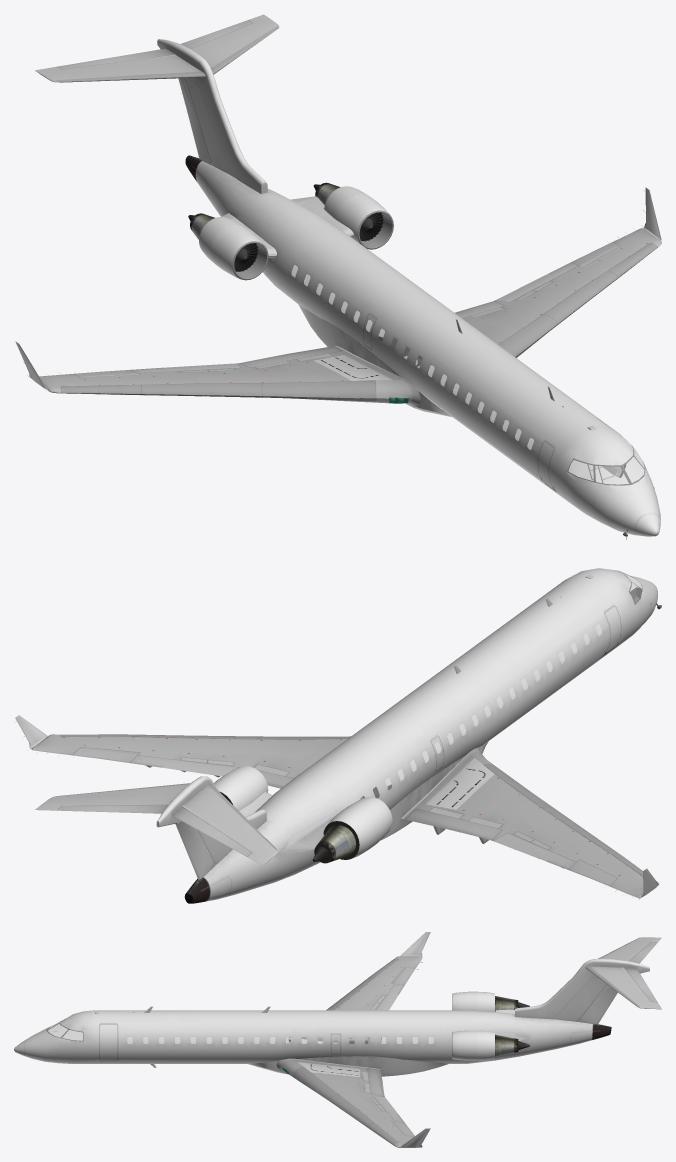
File: CRJ7.glb
3 renders of one model, top to bottom at view 1: azimuth 30°, elevation 25°; view 2: azimuth 150°, elevation 25°; view 3: azimuth 270°, elevation 25°, orthographic. The views are drawn at different scales.
Visible parts, largest first — view 1: Winglets, Windows, Nozzle; view 2: Winglets, Windows, Nozzle; view 3: Winglets, Windows, Nozzle.
Part boxes in pixels (box(x1,y1,x2,y2)): Winglets: box(15, 14, 661, 536); Windows: box(291, 265, 644, 484); Nozzle: box(188, 182, 393, 280); Winglets: box(15, 568, 659, 903); Windows: box(360, 573, 641, 798); Nozzle: box(313, 824, 356, 862); Winglets: box(14, 932, 661, 1147); Windows: box(48, 1021, 433, 1043); Nozzle: box(452, 994, 529, 1058).
Size of the model in its own units: 23.29 by 6.09 by 32.46.
Materials: 7 (3 with a texture image).
